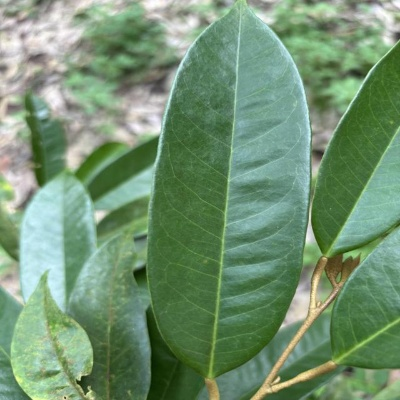Leaf_Healthy: (144, 0, 314, 381)
